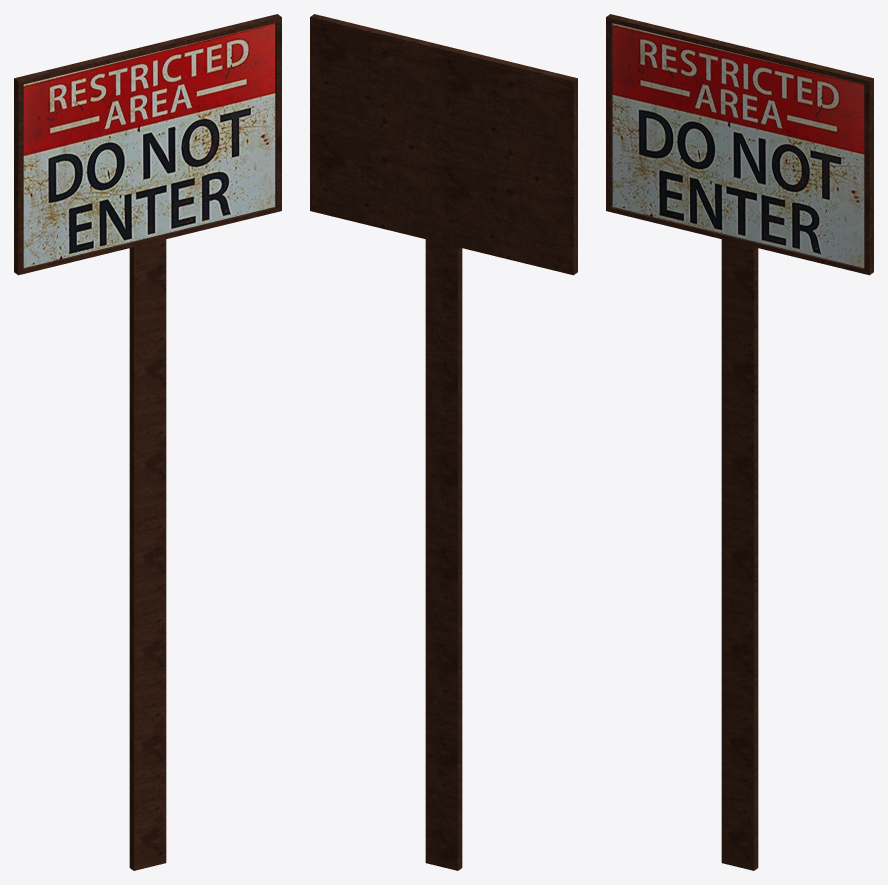
The model's file is stopSign.glb.
3 views of the same model, side by side, from view 1: azimuth 30°, elevation 25°; view 2: azimuth 150°, elevation 25°; view 3: azimuth 330°, elevation 25° (orthographic).
Visible parts, largest first — view 1: Sign; view 2: Sign; view 3: Sign.
Boxes of the visible parts, box(x1,y1,x2,y2) form: Sign: box(14, 14, 281, 870); Sign: box(310, 14, 577, 870); Sign: box(606, 14, 873, 870).
Size of the model in its own units: 4.18 by 12.38 by 0.1148.
2 materials, 2 textured.
